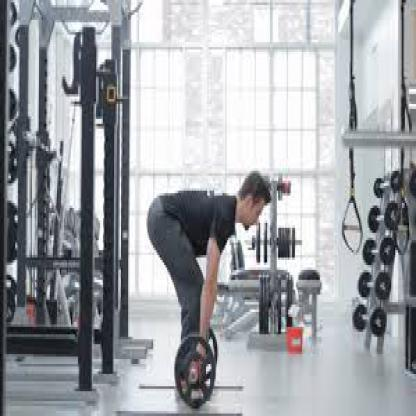Barbell: (189, 363, 200, 383)
